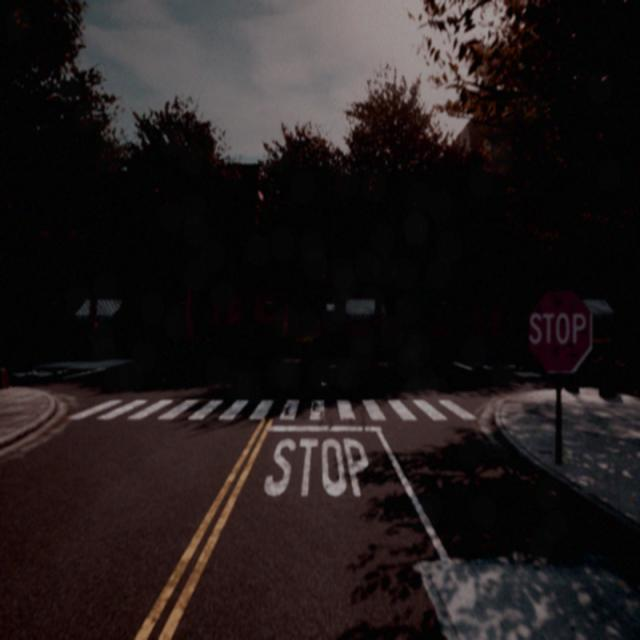stop sign: (524, 284, 594, 378), (527, 308, 587, 347)
